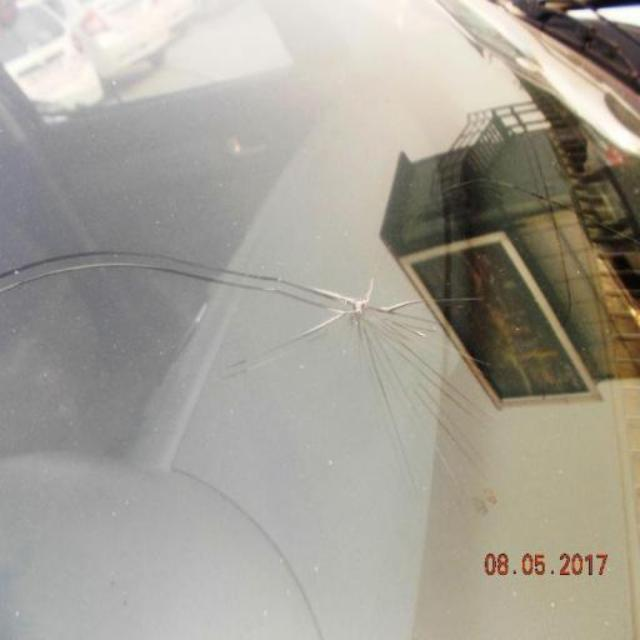glass shatter: (300, 268, 475, 421)
